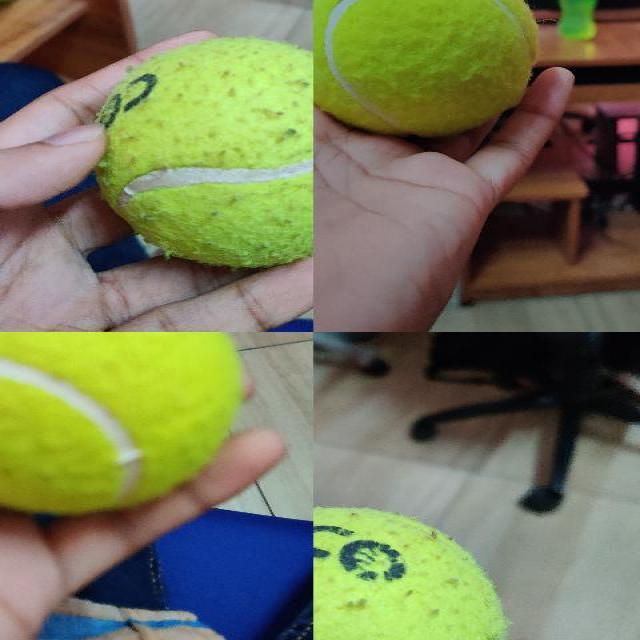tennis-ball: (91, 36, 313, 268), (0, 332, 238, 513), (313, 0, 539, 138), (313, 507, 507, 639)
